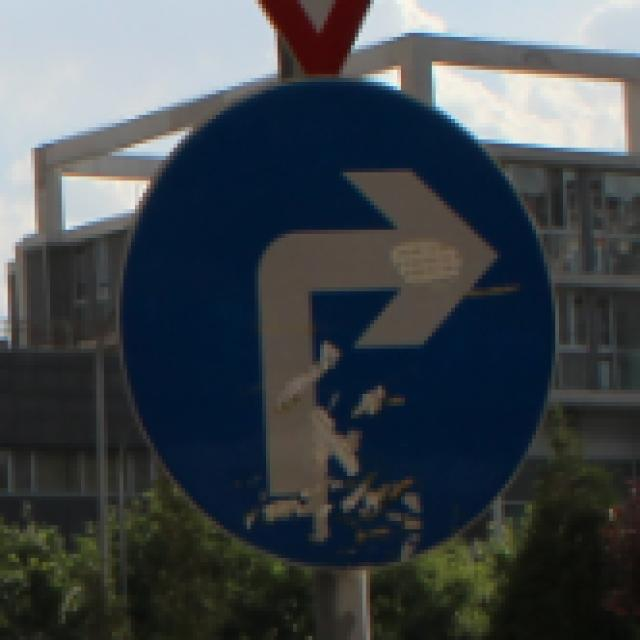Right: (121, 77, 551, 566)
